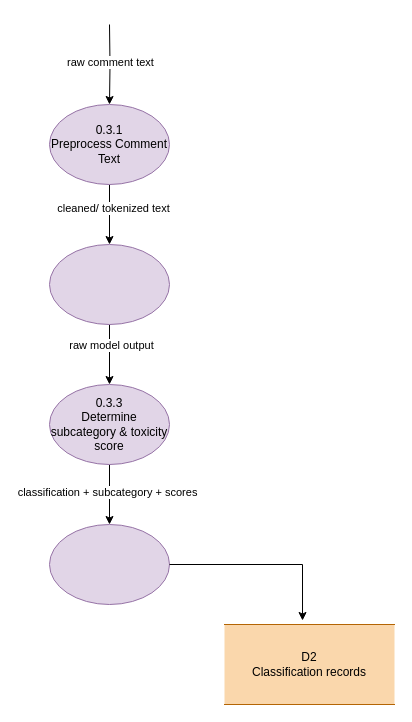
Image size: 412x722. Some labels were removed from this diagram. The centre of each missing label's shape, as x and y in pixels:
"0.3.2 Run toxicity model" goes at [109,284].
"0.3.4 Format & return result" goes at [109,564].
